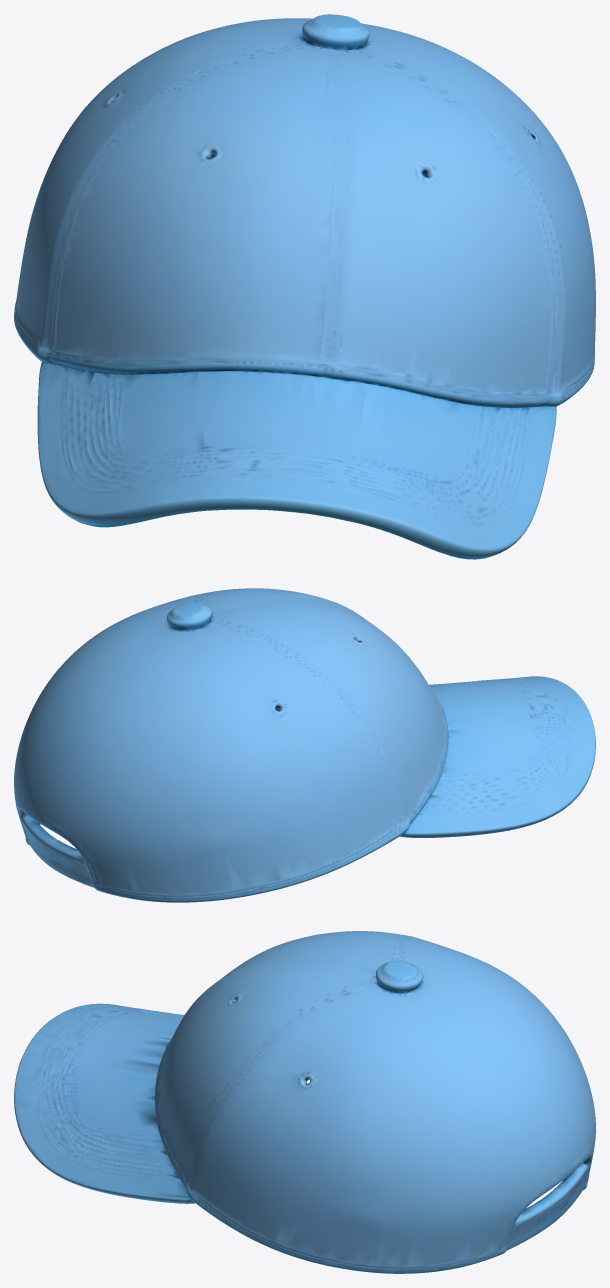
The model's file is cap.glb.
The picture shows the model from 3 angles, top to bottom: view 1: azimuth 30°, elevation 25°; view 2: azimuth 150°, elevation 25°; view 3: azimuth 270°, elevation 25°; orthographic projection. The views are drawn at different scales.
Visible parts, largest first — view 1: node_0; view 2: node_0; view 3: node_0.
Boxes of the visible parts, x1=… form: node_0: x1=14, y1=14, x2=595, y2=559; node_0: x1=14, y1=588, x2=595, y2=902; node_0: x1=14, y1=931, x2=595, y2=1273.
Bounding box in the file's own units: 0.1134 × 0.0584 × 0.1293.
Materials: 1 (1 with a texture image).
